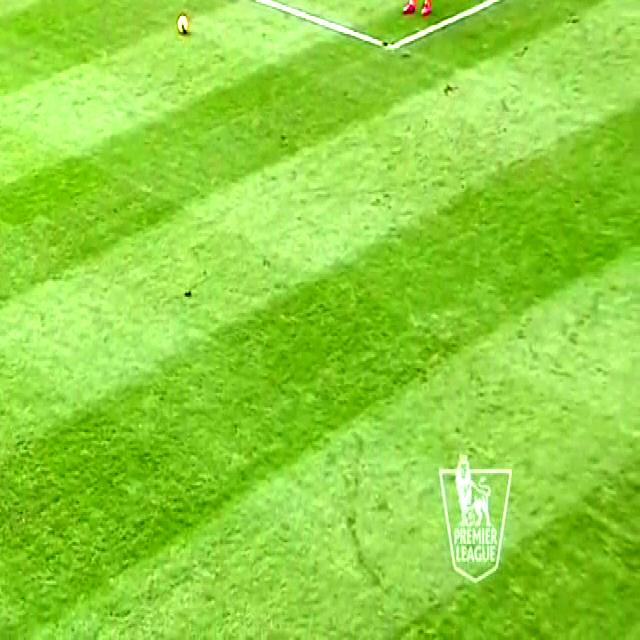ball: (176, 4, 196, 40)
goalkeeper: (397, 0, 447, 21)
